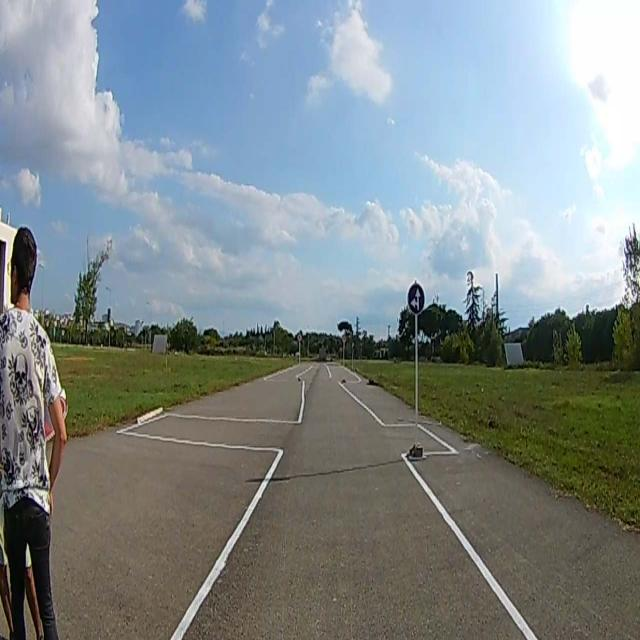ilerisol: (407, 284, 425, 312)
